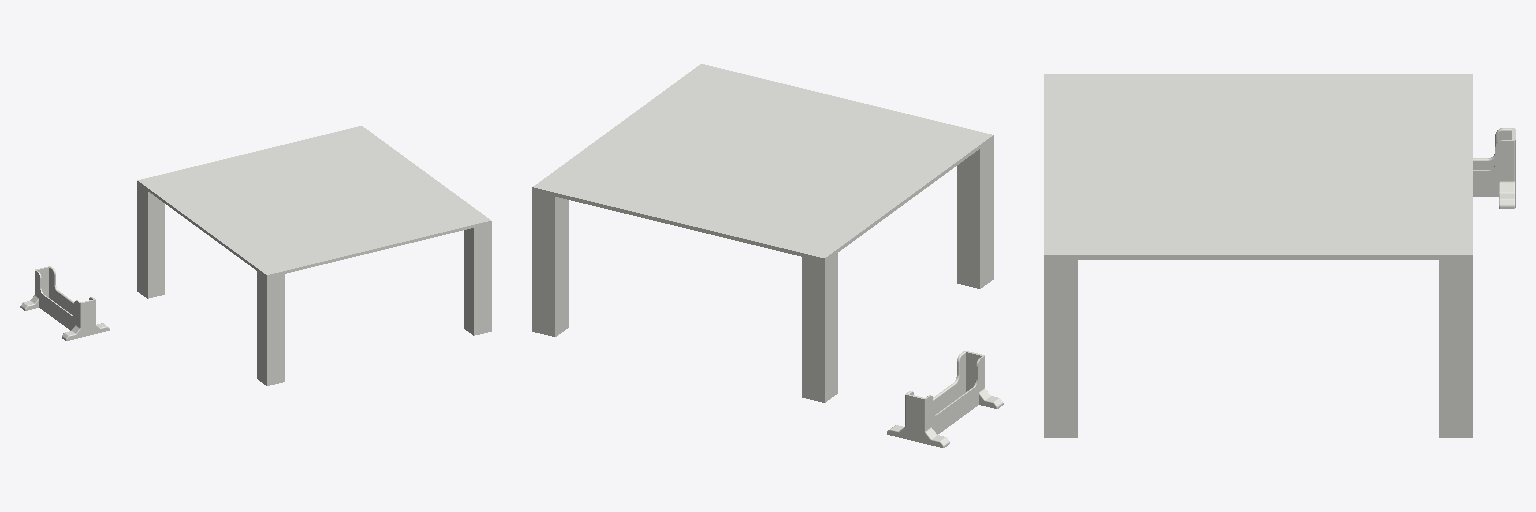
The robot description file, URDF, robot "cb_card_holder_kit_platform":
<?xml version="1.0"?>
<!-- ContactBench kit card holder (card_holder_kit_platform). Generated by FoundationTouch tools/contactbench/card_tasks.py -->
<robot name="cb_card_holder_kit_platform">
  <material name="c"><color rgba="0.92 0.92 0.90 1.0"/></material>
  <link name="receptive">
    <visual><origin xyz="0 0 0" rpy="0 0 0"/><geometry><mesh filename="card_holder_kit_platform.obj" scale="1 1 1"/></geometry><material name="c"/></visual>
    <collision><origin xyz="0.000000 0.000000 0.001000" rpy="0.000000 0.000000 0.000000"/><geometry><box size="0.018000 0.090500 0.002000"/></geometry></collision>
    <collision><origin xyz="-0.008000 0.000000 0.009500" rpy="0.000000 0.000000 0.000000"/><geometry><box size="0.002000 0.086500 0.015000"/></geometry></collision>
    <collision><origin xyz="0.000000 -0.044250 0.018500" rpy="0.000000 0.000000 0.000000"/><geometry><box size="0.018000 0.002000 0.037000"/></geometry></collision>
    <collision><origin xyz="-0.008000 -0.038250 0.027000" rpy="0.000000 0.000000 0.000000"/><geometry><box size="0.002000 0.010000 0.020000"/></geometry></collision>
    <collision><origin xyz="-0.016750 -0.038250 0.002500" rpy="0.000000 0.000000 0.000000"/><geometry><box size="0.015500 0.014000 0.005000"/></geometry></collision>
    <collision><origin xyz="-0.008000 0.038250 0.027000" rpy="0.000000 0.000000 0.000000"/><geometry><box size="0.002000 0.010000 0.020000"/></geometry></collision>
    <collision><origin xyz="-0.016750 0.038250 0.002500" rpy="0.000000 0.000000 0.000000"/><geometry><box size="0.015500 0.014000 0.005000"/></geometry></collision>
    <collision><origin xyz="0.008000 0.000000 0.009500" rpy="0.000000 0.000000 0.000000"/><geometry><box size="0.002000 0.086500 0.015000"/></geometry></collision>
    <collision><origin xyz="0.000000 0.044250 0.018500" rpy="0.000000 0.000000 0.000000"/><geometry><box size="0.018000 0.002000 0.037000"/></geometry></collision>
    <collision><origin xyz="0.008000 -0.038250 0.027000" rpy="0.000000 0.000000 0.000000"/><geometry><box size="0.002000 0.010000 0.020000"/></geometry></collision>
    <collision><origin xyz="0.016750 -0.038250 0.002500" rpy="0.000000 0.000000 0.000000"/><geometry><box size="0.015500 0.014000 0.005000"/></geometry></collision>
    <collision><origin xyz="0.008000 0.038250 0.027000" rpy="0.000000 0.000000 0.000000"/><geometry><box size="0.002000 0.010000 0.020000"/></geometry></collision>
    <collision><origin xyz="0.016750 0.038250 0.002500" rpy="0.000000 0.000000 0.000000"/><geometry><box size="0.015500 0.014000 0.005000"/></geometry></collision>
    <collision><origin xyz="0.220000 -0.107000 0.118410" rpy="0.000000 0.000000 0.000000"/><geometry><box size="0.254000 0.254000 0.003180"/></geometry></collision>
    <collision><origin xyz="0.103000 -0.224000 0.058410" rpy="0.000000 0.000000 0.000000"/><geometry><box size="0.020000 0.020000 0.116820"/></geometry></collision>
    <collision><origin xyz="0.103000 0.010000 0.058410" rpy="0.000000 0.000000 0.000000"/><geometry><box size="0.020000 0.020000 0.116820"/></geometry></collision>
    <collision><origin xyz="0.337000 -0.224000 0.058410" rpy="0.000000 0.000000 0.000000"/><geometry><box size="0.020000 0.020000 0.116820"/></geometry></collision>
    <collision><origin xyz="0.337000 0.010000 0.058410" rpy="0.000000 0.000000 0.000000"/><geometry><box size="0.020000 0.020000 0.116820"/></geometry></collision>
  </link>
</robot>

--- Render facts (derived) ---
Views: 3 orthographic renders of the robot side by side, from view 1: azimuth 30°, elevation 25°; view 2: azimuth 150°, elevation 25°; view 3: azimuth 270°, elevation 25°.
Robot: cb_card_holder_kit_platform — 1 links, 0 joints (none); root link receptive; default pose: every joint at zero.
Links seen in each view (by area): view 1: receptive; view 2: receptive; view 3: receptive.
Link boxes in pixels (x1,y1,x2,y2): receptive: (20, 126, 491, 385); receptive: (532, 64, 1003, 447); receptive: (1044, 74, 1515, 437).
Bounding box of the posed robot: 0.372 × 0.2792 × 0.12 m (x, y, z).
1 mesh visuals loaded from 1 distinct referenced files (1 OBJ).
